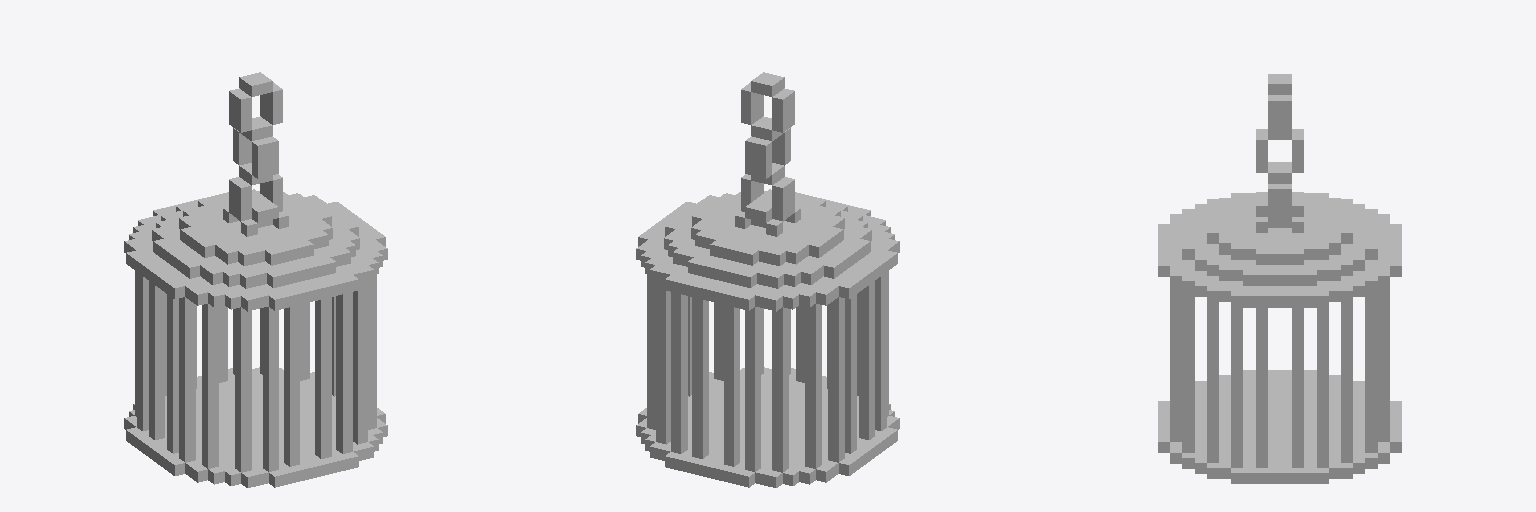
The model's file is Jaula_1.obj.
3 renders of one model, left to right at view 1: azimuth 30°, elevation 25°; view 2: azimuth 150°, elevation 25°; view 3: azimuth 270°, elevation 25°, orthographic.
Parts seen in each view (by area): view 1: object 1; view 2: object 1; view 3: object 1.
Part boxes in pixels (x1,y1,x2,y2): object 1: (124,72,387,487); object 1: (636,72,899,487); object 1: (1158,74,1401,483).
Size of the model in its own units: 2 by 3.2 by 2.